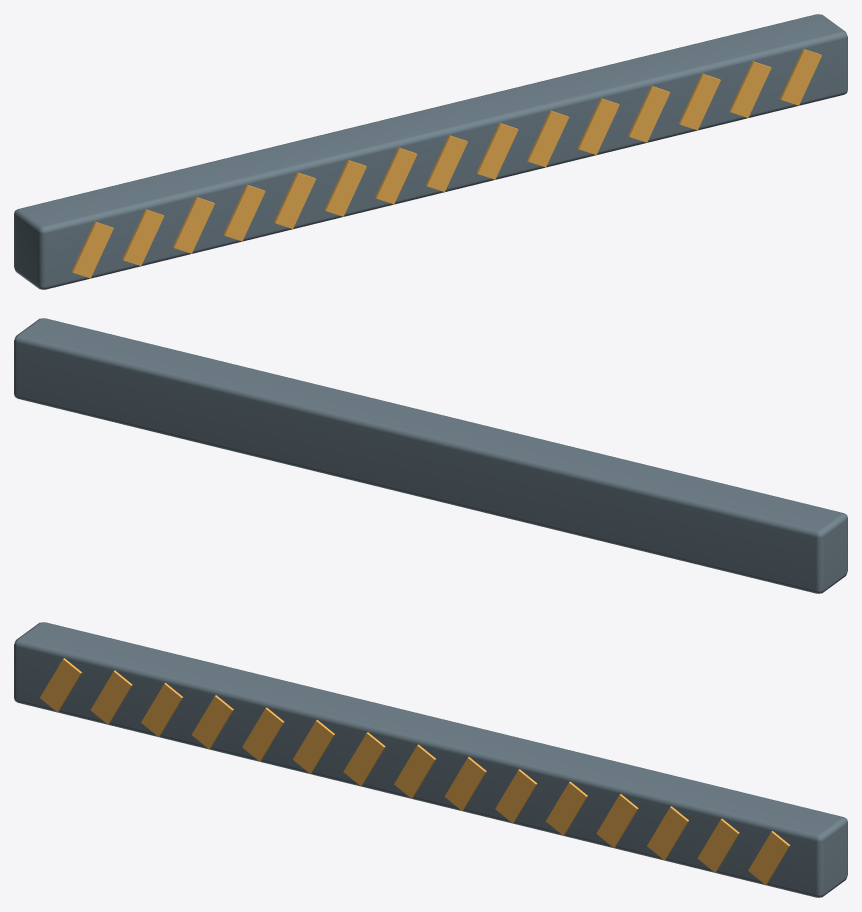
The model's file is SM_FE_PlatformEdge.fbx.
The picture shows the model from 3 angles, top to bottom: view 1: azimuth 30°, elevation 25°; view 2: azimuth 150°, elevation 25°; view 3: azimuth 330°, elevation 25°; orthographic projection.
Visible parts, largest first — view 1: SM_FE_PlatformEdge; view 2: SM_FE_PlatformEdge; view 3: SM_FE_PlatformEdge.
Boxes of the visible parts, x1,y1,x2,y2 form: SM_FE_PlatformEdge: (14, 14, 847, 289); SM_FE_PlatformEdge: (14, 318, 847, 593); SM_FE_PlatformEdge: (14, 622, 847, 897).
Size of the model in its own units: 400 by 26.7 by 30.
